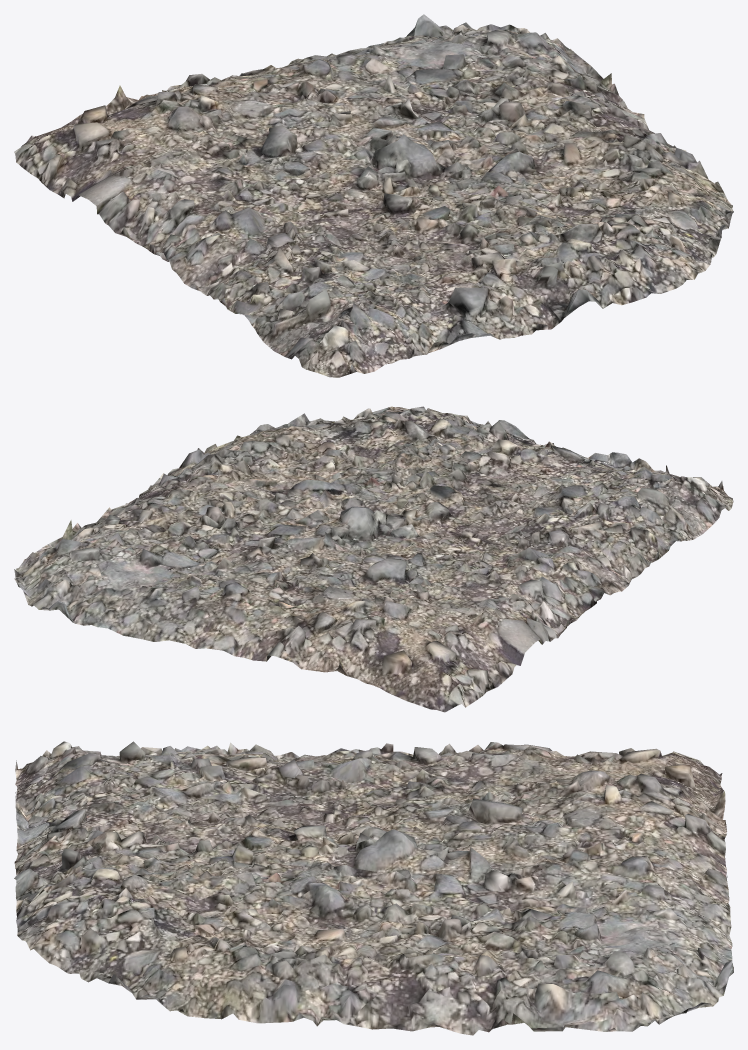
The model's file is ground-photo-small.glb.
The picture shows the model from 3 angles, top to bottom: view 1: azimuth 30°, elevation 25°; view 2: azimuth 150°, elevation 25°; view 3: azimuth 270°, elevation 25°; orthographic projection. The views are drawn at different scales.
Parts seen in each view (by area): view 1: RockyGroundPatch01_Final; view 2: RockyGroundPatch01_Final; view 3: RockyGroundPatch01_Final.
Part boxes in pixels (x1,y1,x2,y2): RockyGroundPatch01_Final: (14, 14, 733, 377); RockyGroundPatch01_Final: (14, 406, 733, 712); RockyGroundPatch01_Final: (14, 741, 733, 1035).
Size of the model in its own units: 4.86 by 0.5652 by 5.3.
Materials: 1 (1 with a texture image).
